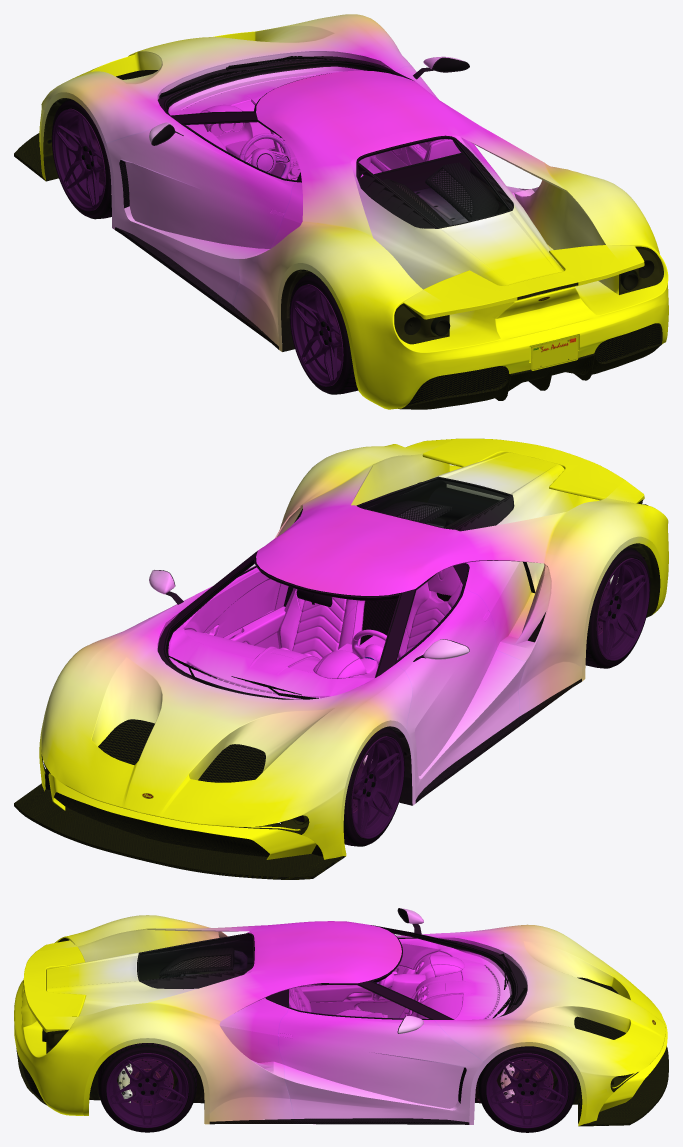
File: fmj.glb
3 views of the same model, one above another, from view 1: azimuth 30°, elevation 25°; view 2: azimuth 150°, elevation 25°; view 3: azimuth 270°, elevation 25° (orthographic). The views are drawn at different scales.
Parts seen in each view (by area): view 1: bodyshell, chassis, door_dside_f, misc_d, wheel_lr, misc_b, wheel_lf, window_lf, door_pside_f, steeringwheel; view 2: bodyshell, chassis, door_dside_f, door_pside_f, wheel_lr, wheel_lf, misc_b, misc_d, misc_c, window_lf, steeringwheel; view 3: bodyshell, chassis, door_pside_f, wheel_rr, wheel_rf, door_dside_f, misc_d, window_rf, misc_b, misc_c.
Boxes of the visible parts, x1=… form: bodyshell: x1=39, y1=14, x2=668, y2=409; chassis: x1=14, y1=51, x2=662, y2=409; door_dside_f: x1=104, y1=122, x2=295, y2=309; misc_d: x1=359, y1=138, x2=508, y2=226; wheel_lr: x1=289, y1=272, x2=358, y2=394; misc_b: x1=423, y1=245, x2=625, y2=313; wheel_lf: x1=51, y1=99, x2=111, y2=219; window_lf: x1=187, y1=122, x2=299, y2=179; door_pside_f: x1=370, y1=56, x2=525, y2=191; steeringwheel: x1=239, y1=133, x2=290, y2=178; bodyshell: x1=39, y1=439, x2=668, y2=859; chassis: x1=14, y1=476, x2=660, y2=879; door_dside_f: x1=395, y1=586, x2=526, y2=805; door_pside_f: x1=149, y1=565, x2=288, y2=648; wheel_lr: x1=585, y1=546, x2=650, y2=668; wheel_lf: x1=299, y1=726, x2=404, y2=846; misc_b: x1=422, y1=438, x2=624, y2=500; misc_d: x1=360, y1=479, x2=507, y2=528; misc_c: x1=48, y1=773, x2=316, y2=859; window_lf: x1=397, y1=567, x2=462, y2=659; steeringwheel: x1=352, y1=629, x2=402, y2=664; bodyshell: x1=14, y1=915, x2=665, y2=1126; chassis: x1=16, y1=925, x2=668, y2=1126; door_pside_f: x1=278, y1=1007, x2=486, y2=1124; wheel_rr: x1=98, y1=1043, x2=197, y2=1132; wheel_rf: x1=477, y1=1046, x2=576, y2=1132; door_dside_f: x1=299, y1=908, x2=451, y2=1018; misc_d: x1=139, y1=934, x2=252, y2=979; window_rf: x1=289, y1=985, x2=427, y2=1018; misc_b: x1=23, y1=946, x2=86, y2=1018; misc_c: x1=599, y1=1020, x2=667, y2=1111.
Bounding box in the file's own units: 2.06 × 1.06 × 4.67.
18 materials, 14 textured.
